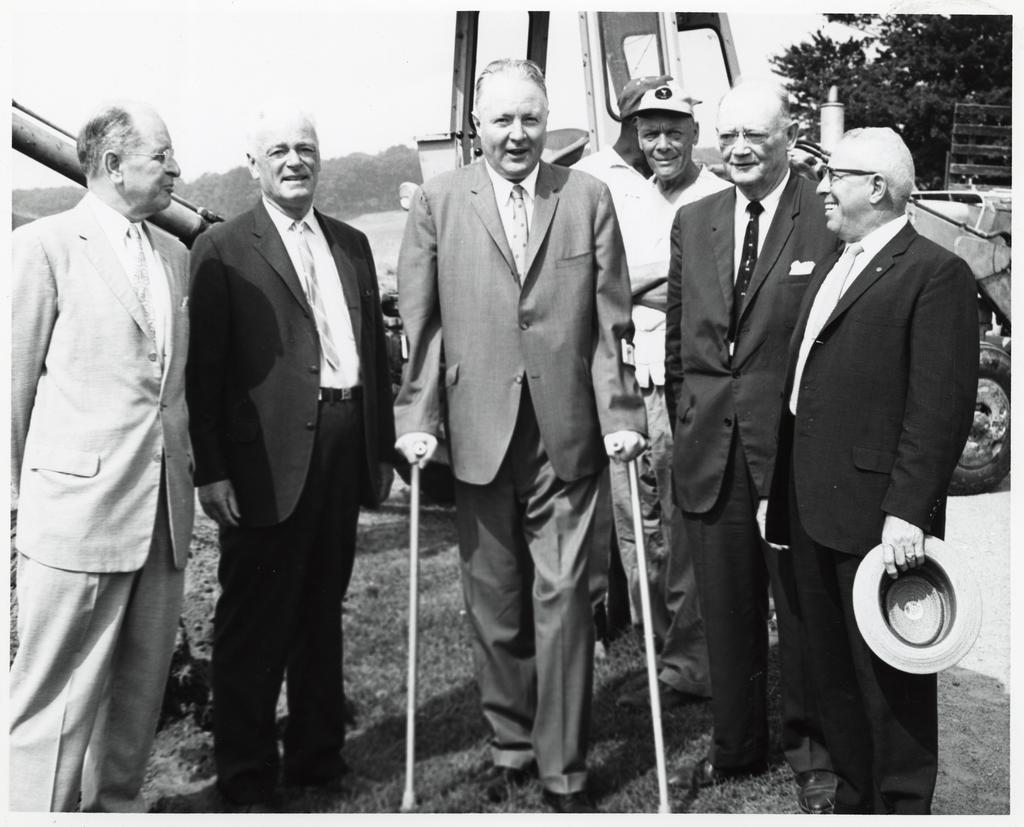crutches: (387, 47, 675, 815)
